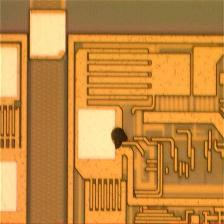PARTICLE: (107, 128, 130, 150)
